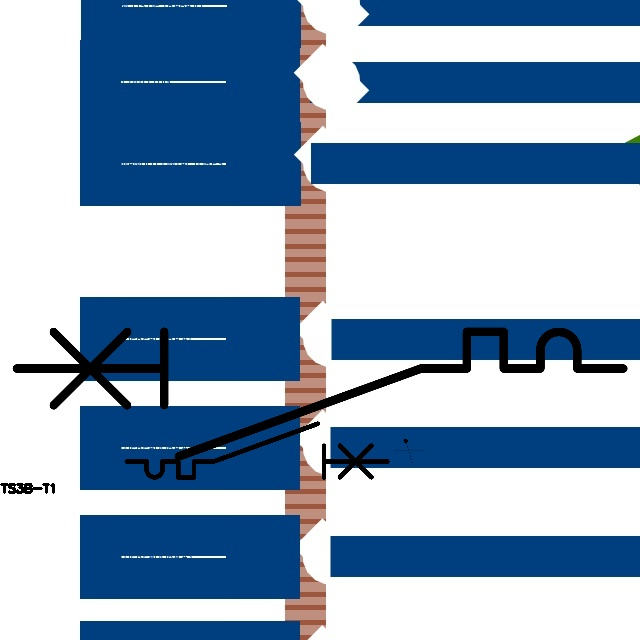interruptor_termomagnetico: (1, 316, 639, 472), (120, 417, 394, 484)
